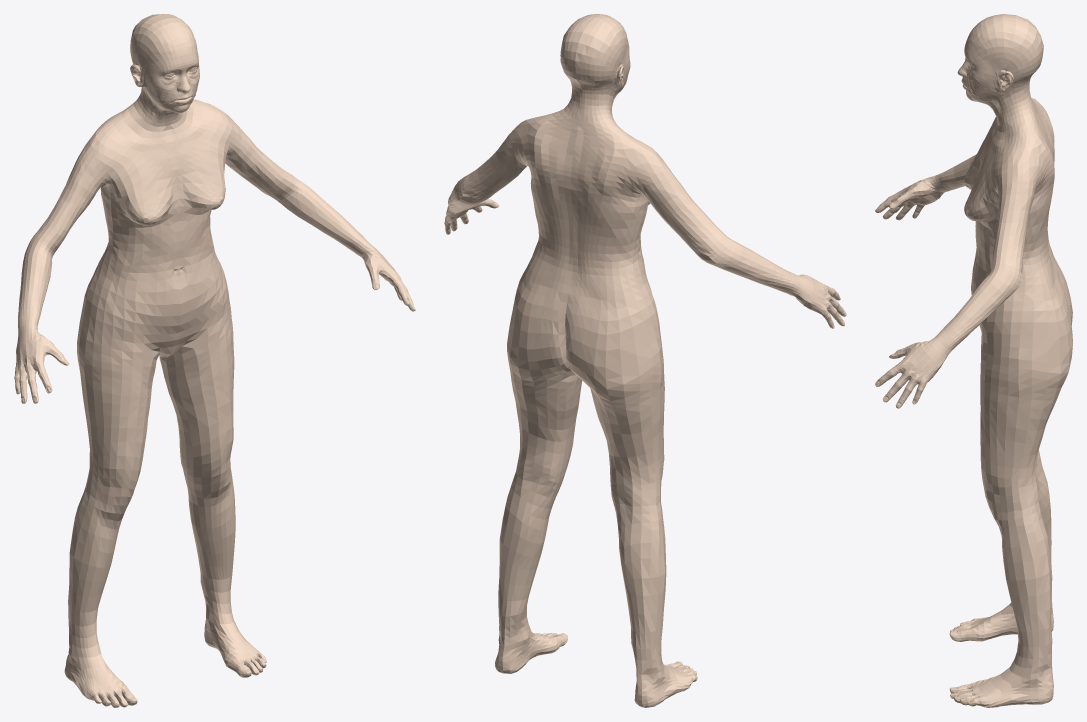
Rendered from female-older-average-low.glb.
3 renders of one model, left to right at view 1: azimuth 30°, elevation 25°; view 2: azimuth 150°, elevation 25°; view 3: azimuth 270°, elevation 25°, orthographic.
Parts seen in each view (by area): view 1: world; view 2: world; view 3: world.
Part boxes in pixels (x1,y1,x2,y2): world: [14, 14, 415, 707]; world: [444, 14, 846, 707]; world: [875, 14, 1072, 707].
Bounding box in the file's own units: 1.13 × 1.8 × 0.4963.
